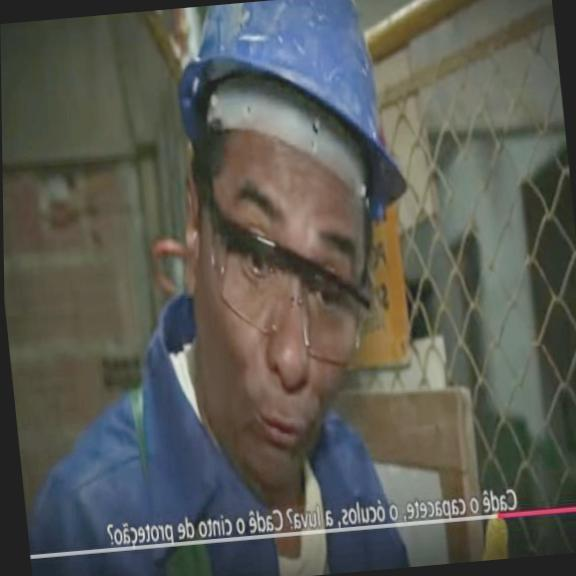no_safety_vest: (9, 316, 411, 576)
